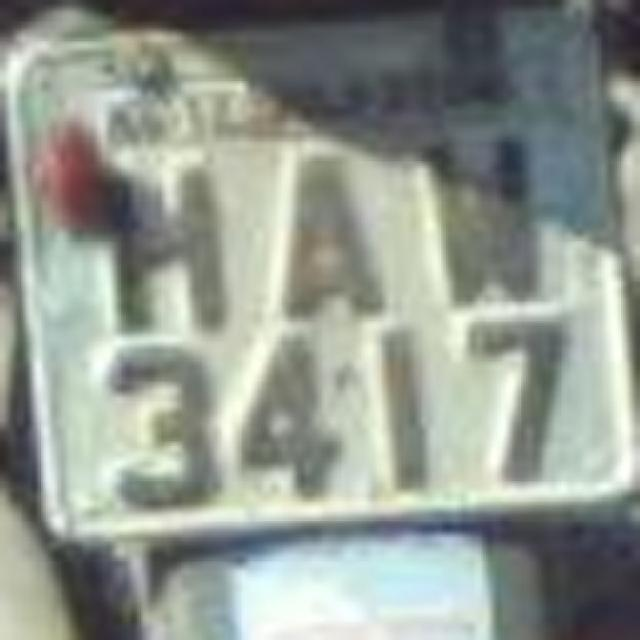1: (329, 316, 456, 509)
3: (56, 316, 244, 524)
4: (216, 311, 356, 504)
7: (435, 308, 600, 504)
B: (260, 140, 392, 335)
M: (428, 129, 568, 316)
N: (84, 140, 231, 332)
